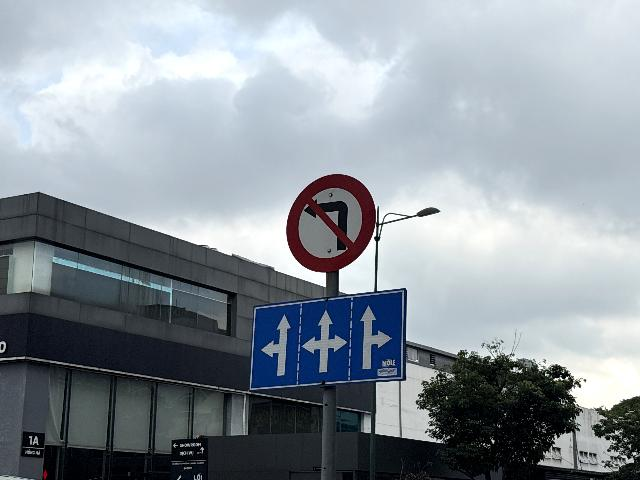cam-re-trai: (286, 173, 378, 274)
